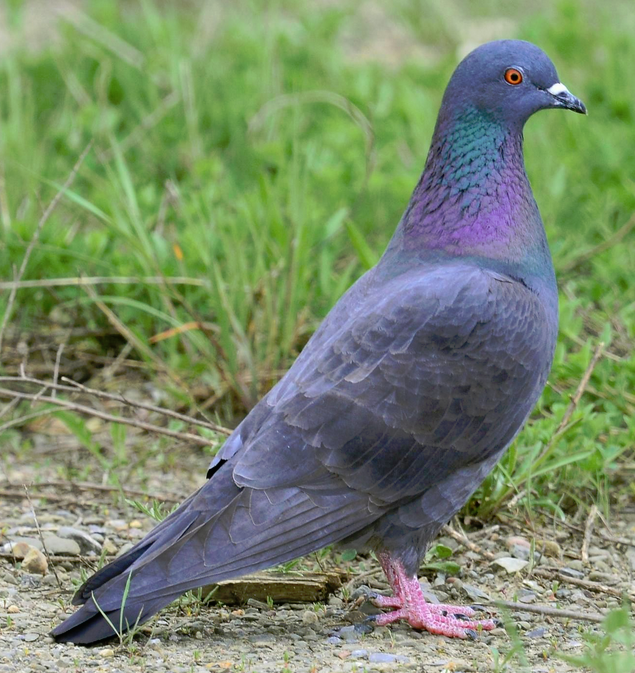Flying Rat: (53, 42, 591, 661)
